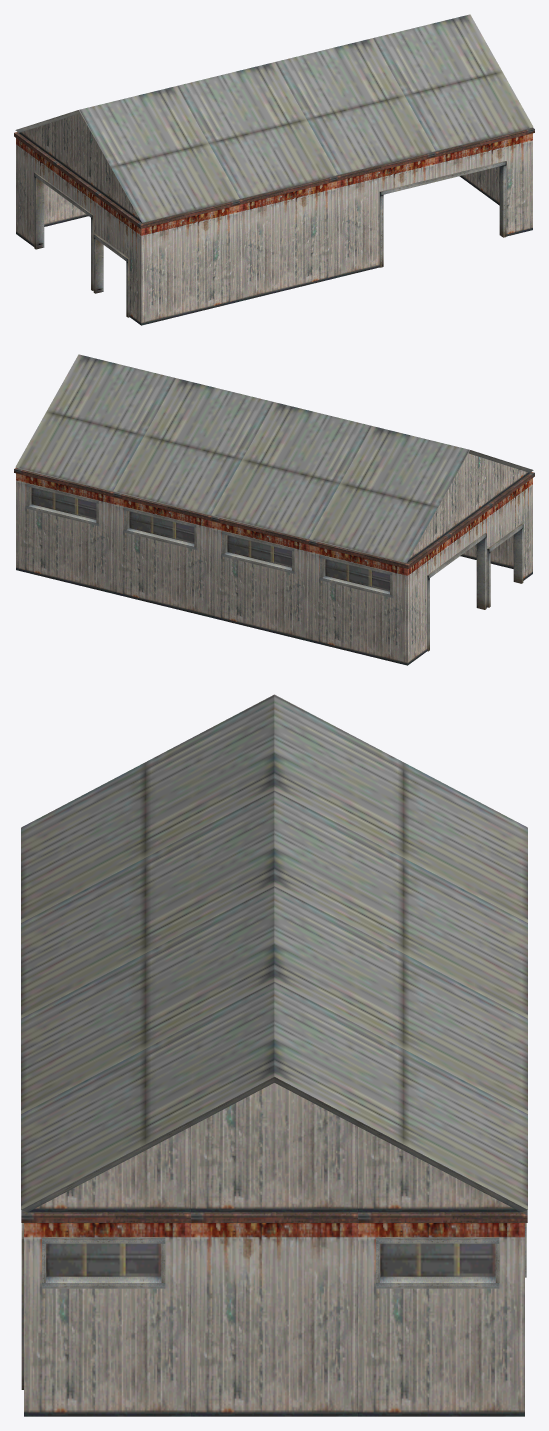
The model's file is galpon.glb.
3 renders of one model, top to bottom at view 1: azimuth 30°, elevation 25°; view 2: azimuth 150°, elevation 25°; view 3: azimuth 270°, elevation 25°, orthographic. The views are drawn at different scales.
Parts seen in each view (by area): view 1: Building_3; view 2: Building_3; view 3: Building_3.
Boxes of the visible parts, box(x1,y1,x2,y2) form: Building_3: box(14, 14, 534, 325); Building_3: box(14, 354, 534, 665); Building_3: box(21, 694, 527, 1416).
Bounding box in the file's own units: 9 × 3.7 × 5.
Materials: 1 (1 with a texture image).
